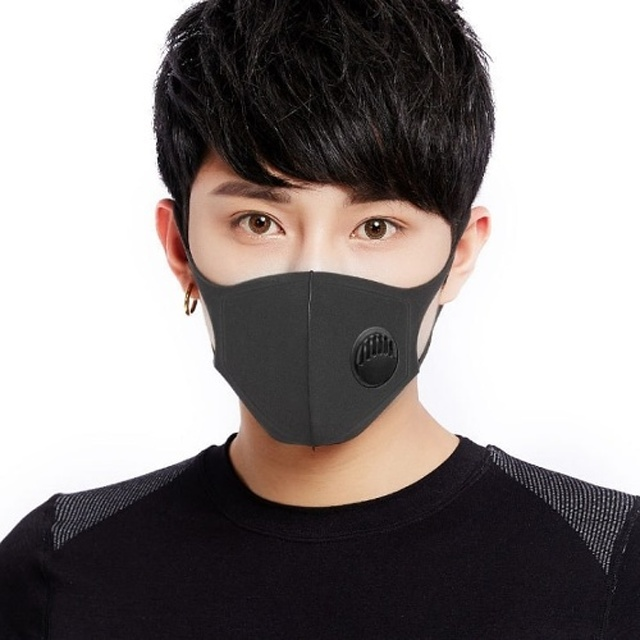mask: (191, 241, 458, 449)
person: (1, 1, 640, 640)
